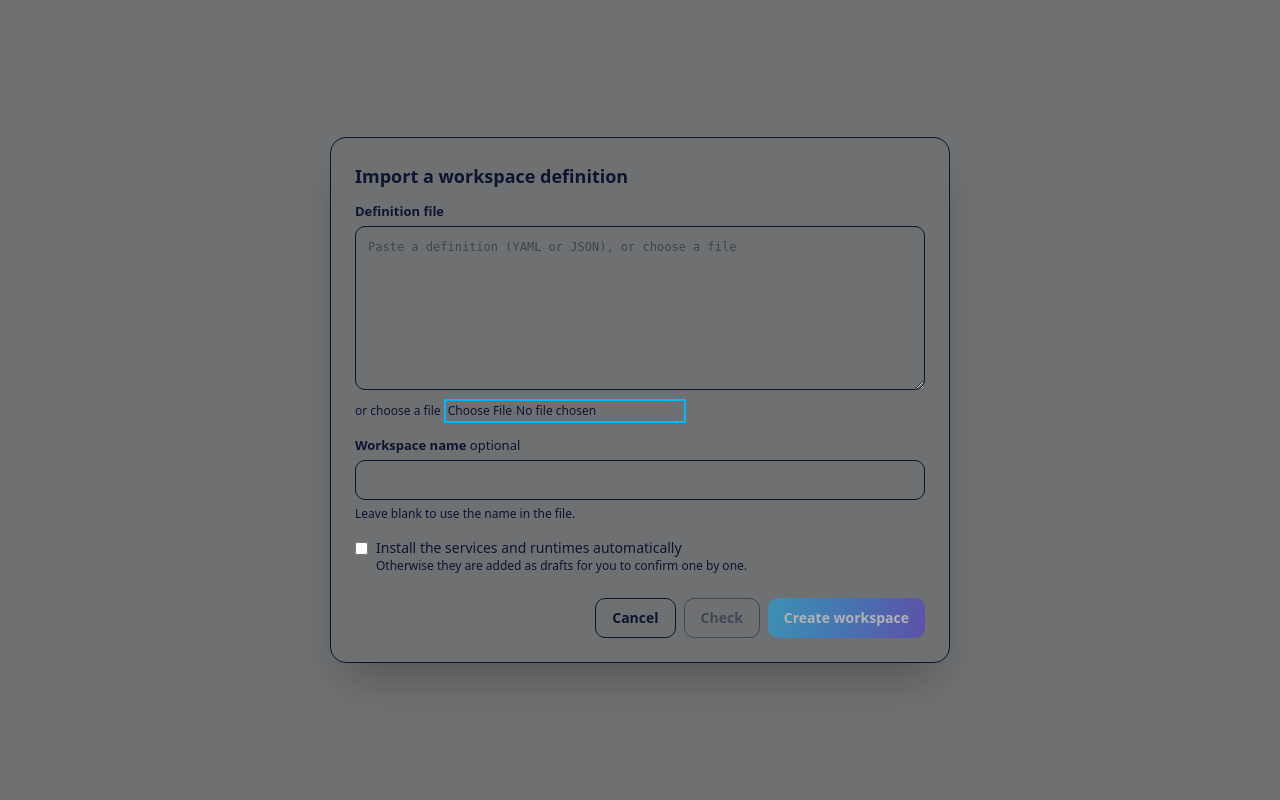
Test case: ImportDefinitionDialog › requires a successful check before creating, then lists what the user must supply
Expected: the button "Create workspace" is disabled, [768,598,925,638]
In the text box labelled "Definition file": (640, 308) [355,226,925,390], type "schemaVersion: 1"
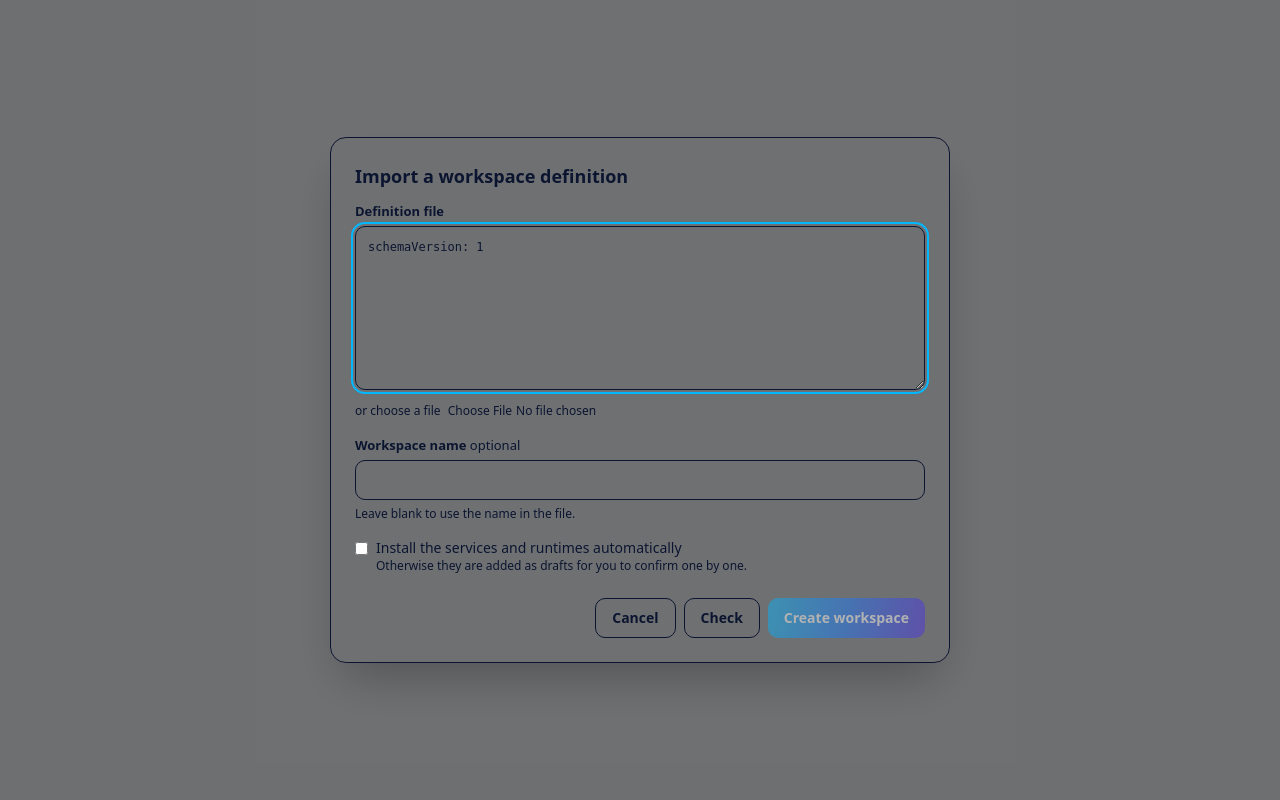
In the field labelled "Workspace name optional": (640, 480) [355,460,925,500], type "COPY"
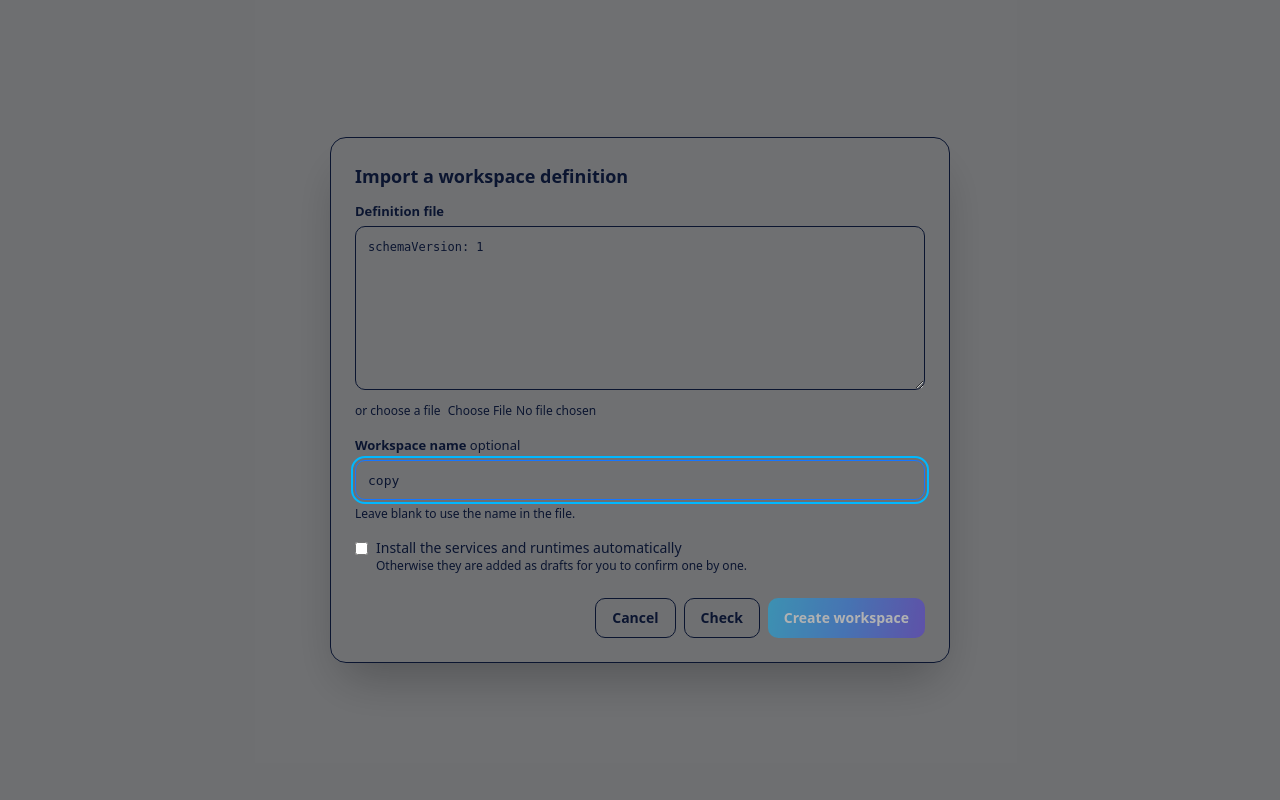
Click the checkbox labelled "Install the services and runtimes automatically": (362, 549) [355,542,368,555]
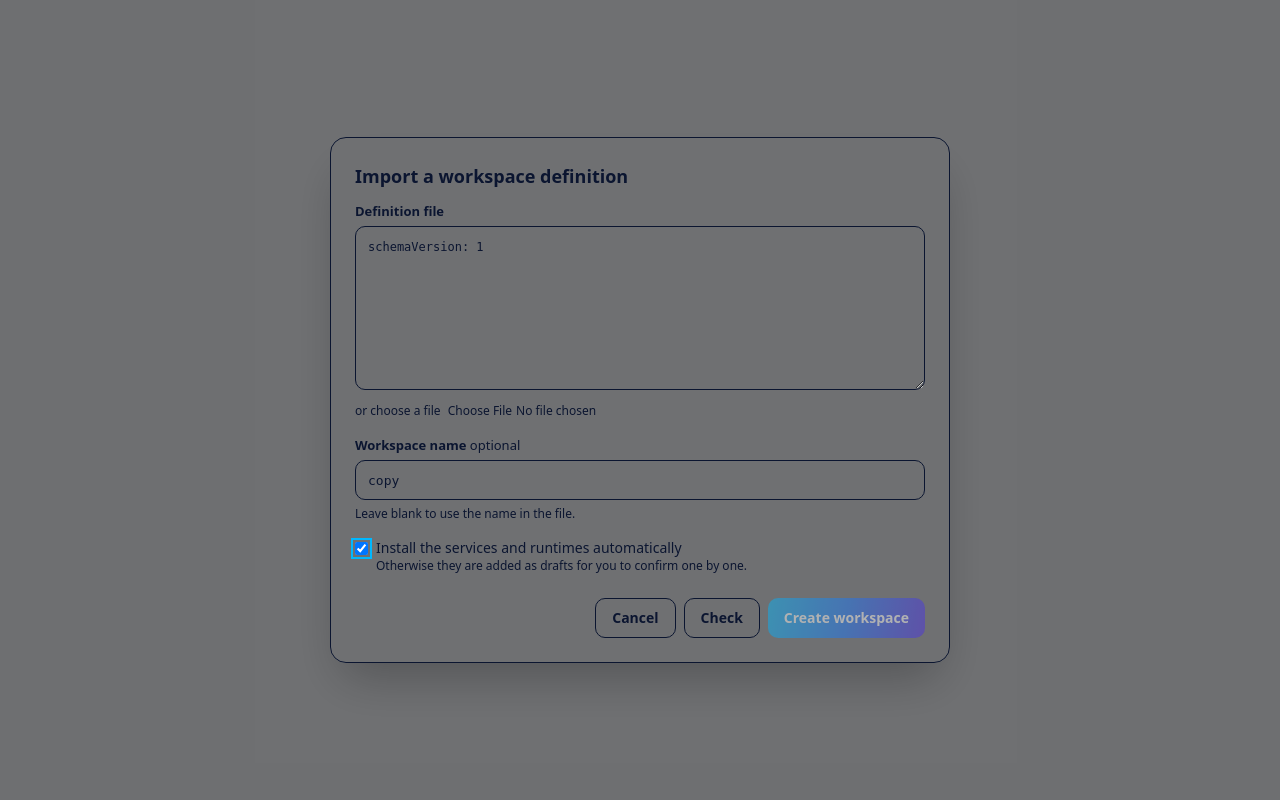
Click the button "Check": (722, 618) [684,598,760,638]
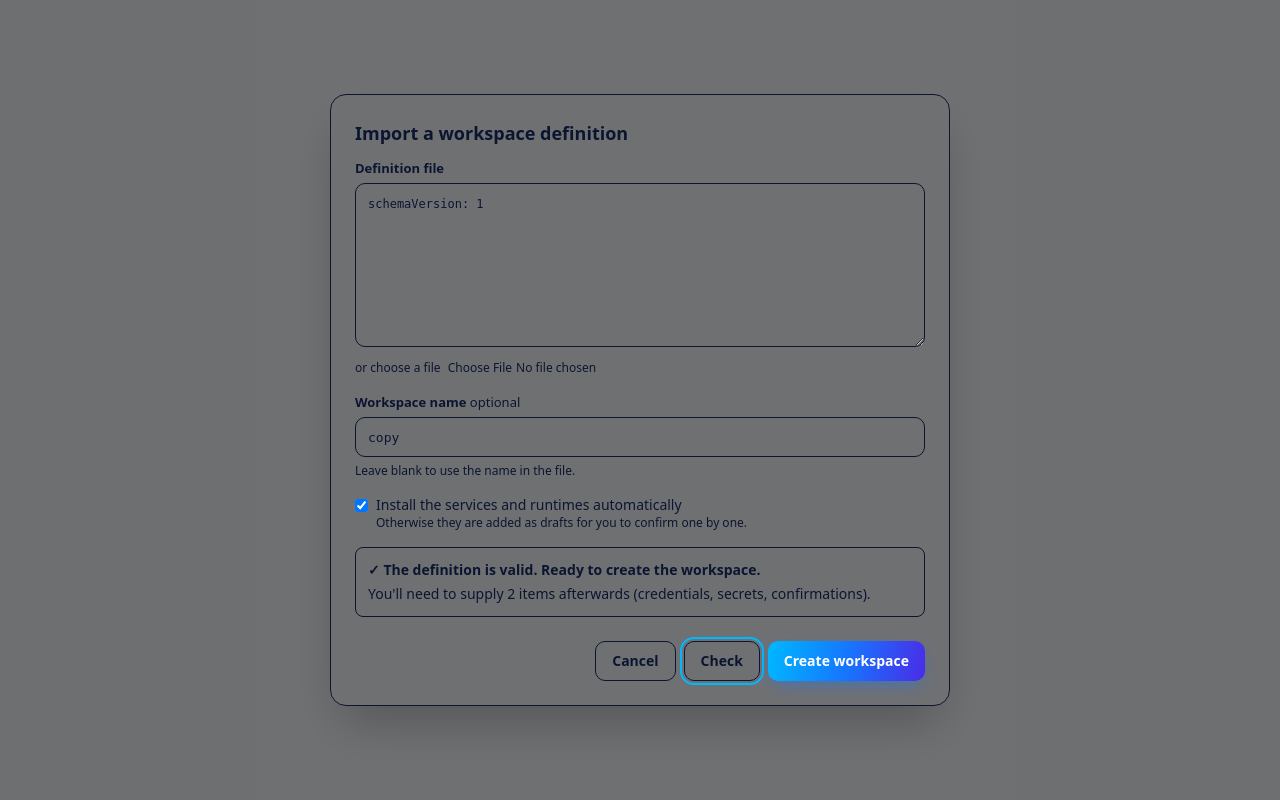
Result: the text "✓ The definition is valid. Ready to create the workspace." is shown at [368,560,760,579]
Result: the text "supply 2 items afterwards" is shown at [368,584,912,604]
Click the button "Create workspace": (846, 661) [768,641,925,681]
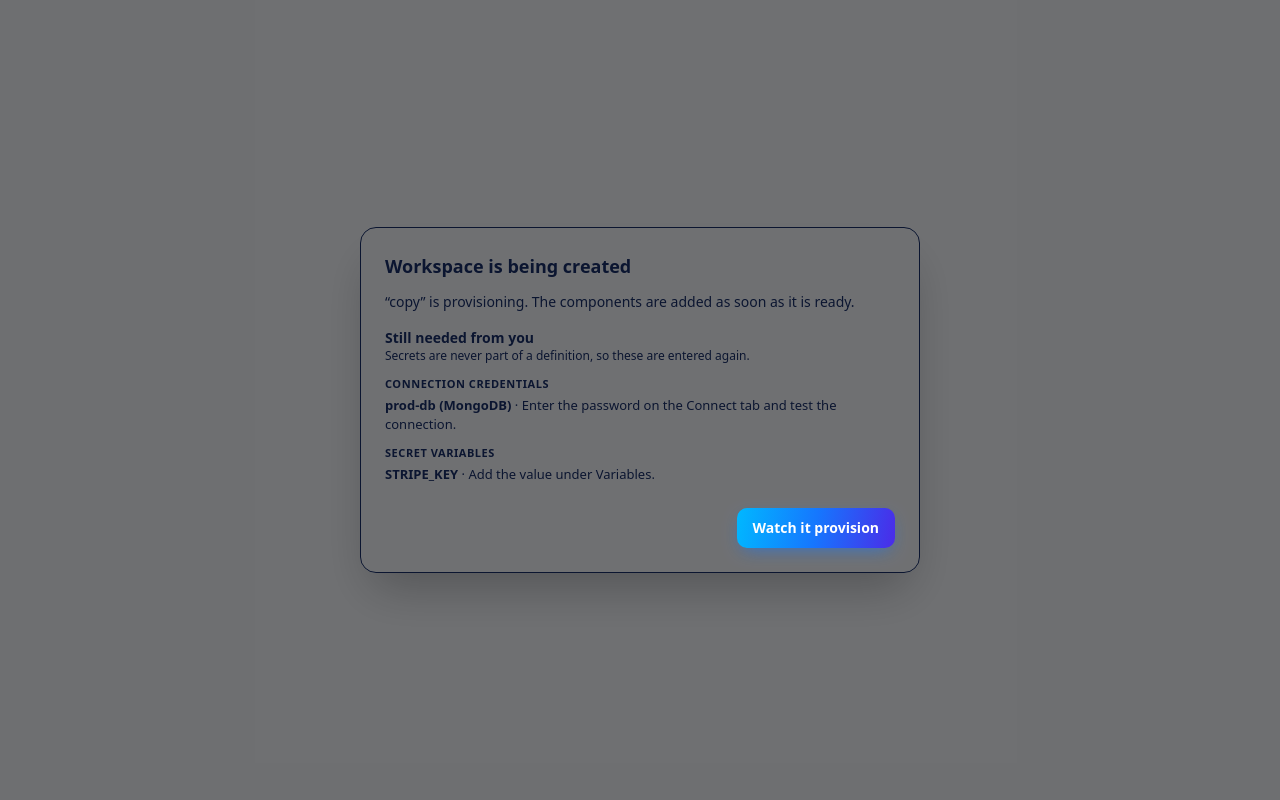
Result: the text "is provisioning" is shown at [420,292,855,312]
Result: the text "Connection credentials" is shown at [385,376,549,392]
Result: the text "STRIPE_KEY" is shown at [385,465,458,483]
